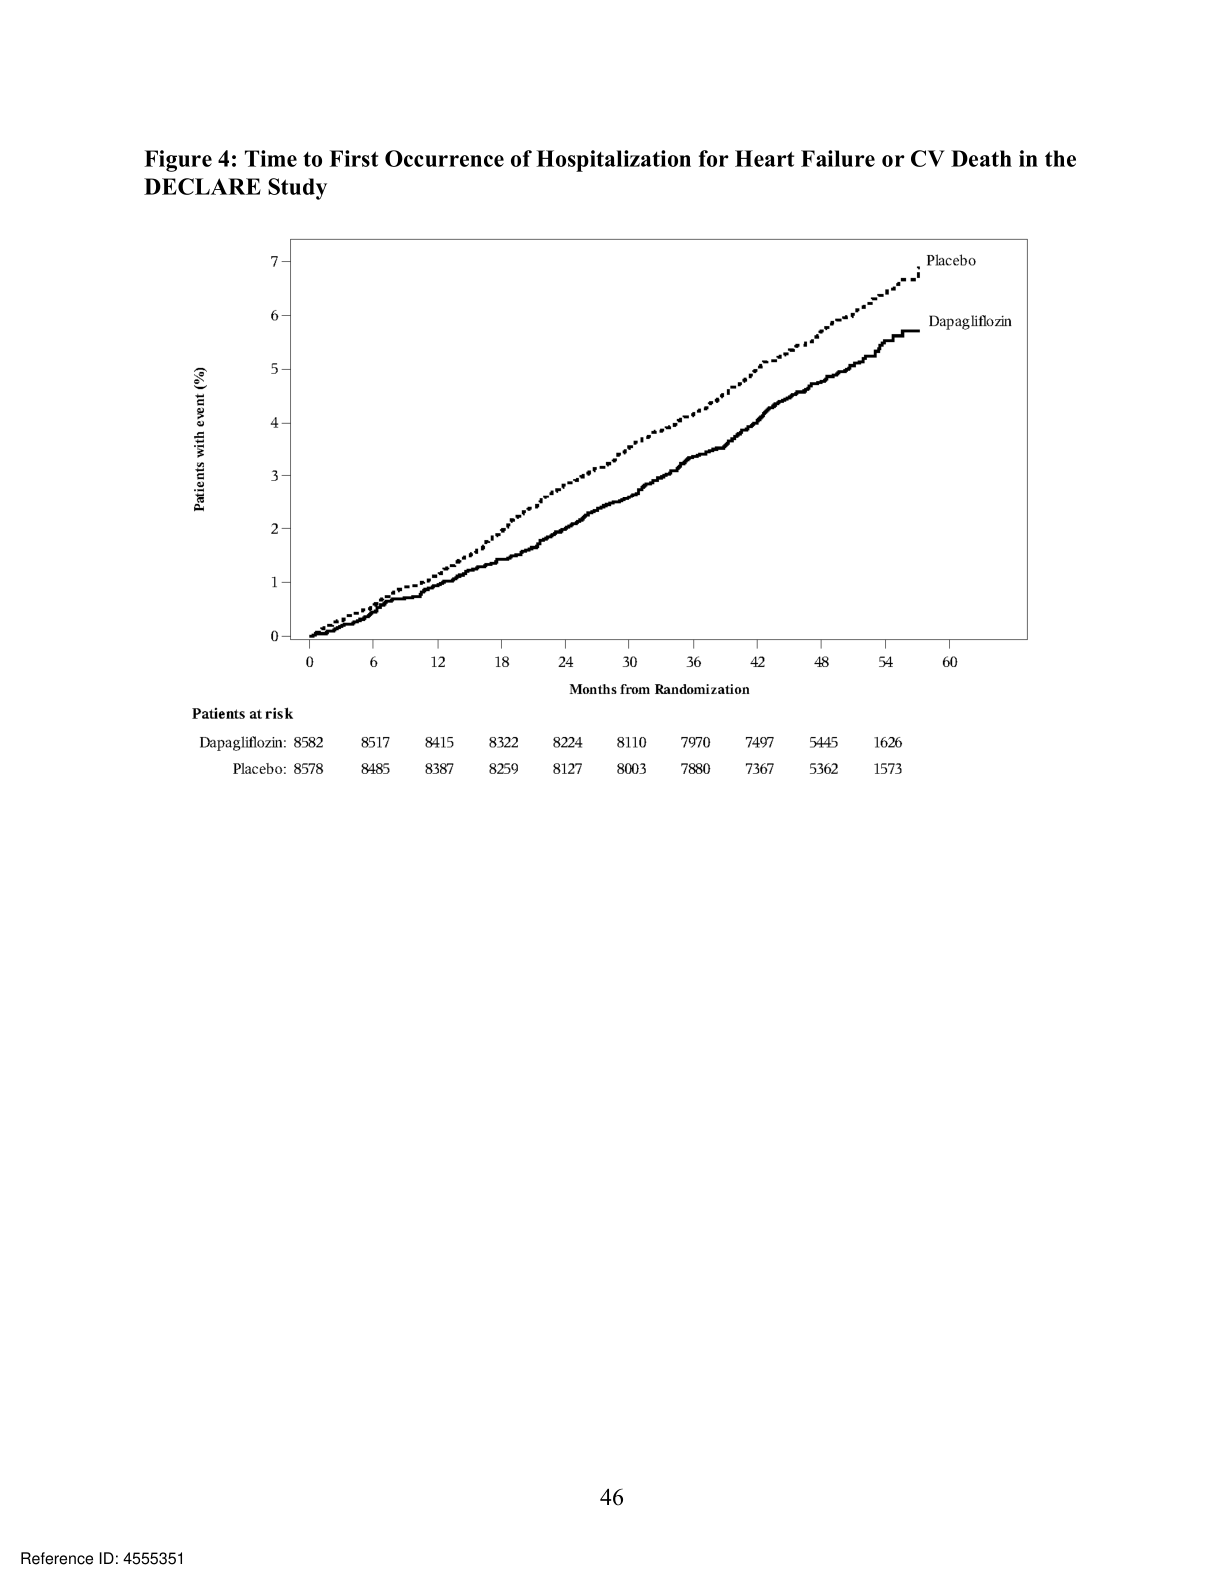nolines: (197, 732, 905, 777)
